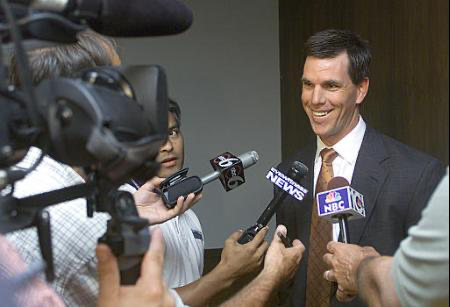Face: (299, 61, 350, 140), (151, 118, 194, 180)
